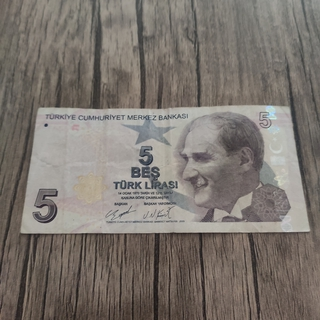5TLFront: (18, 105, 310, 234)
